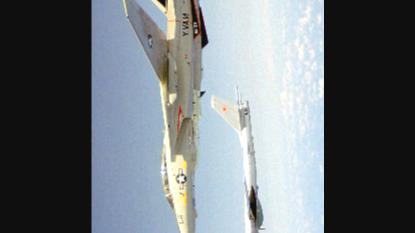EF2000: (120, 0, 208, 232)
Su57: (209, 84, 267, 232)
